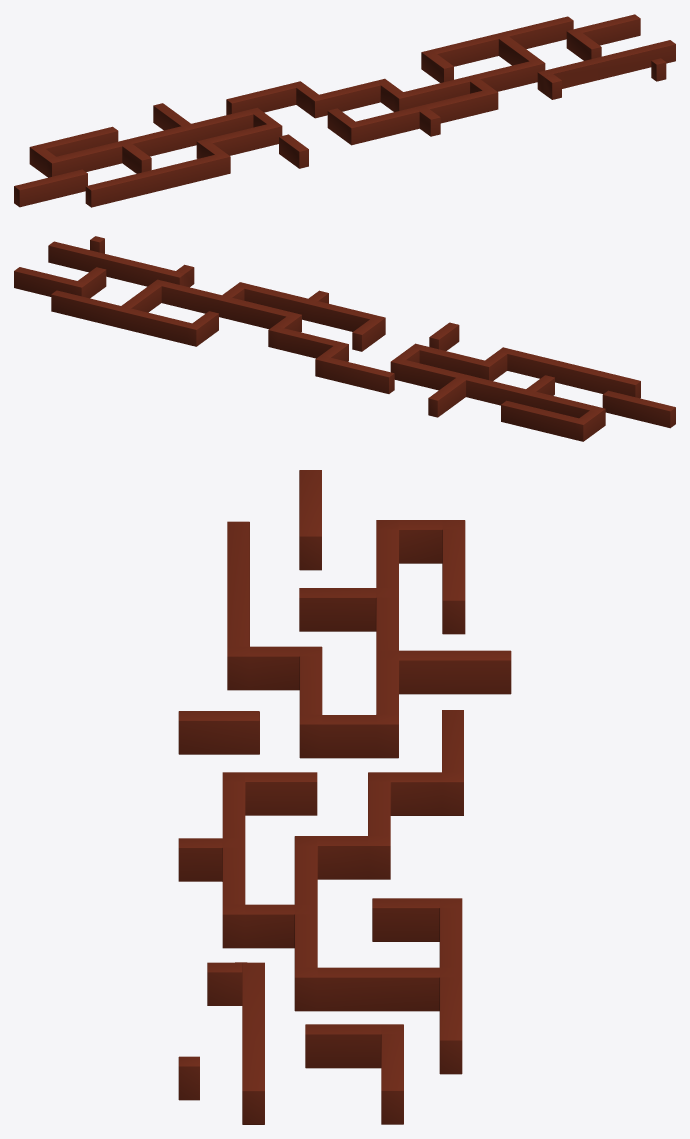
Rendered from InWallUVs.fbx.
3 views of the same model, one above another, from view 1: azimuth 30°, elevation 25°; view 2: azimuth 150°, elevation 25°; view 3: azimuth 270°, elevation 25° (orthographic). The views are drawn at different scales.
Visible parts, largest first — view 1: Cube; view 2: Cube; view 3: Cube.
Part boxes in pixels (<box>): Cube: <box>14,14,675,207</box>; Cube: <box>14,236,675,441</box>; Cube: <box>178,470,511,1124</box>.
Size of the model in its own units: 9714 by 251 by 2199.
